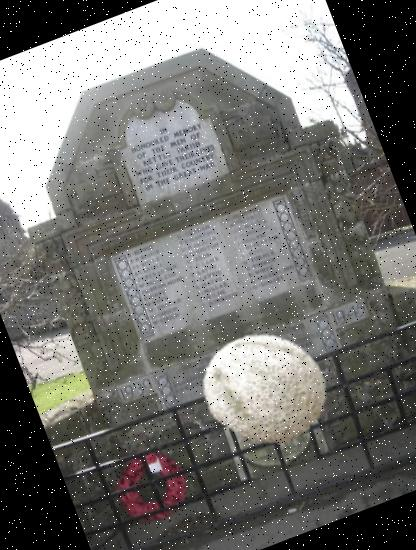Cantaloupe: (184, 308, 348, 471)
